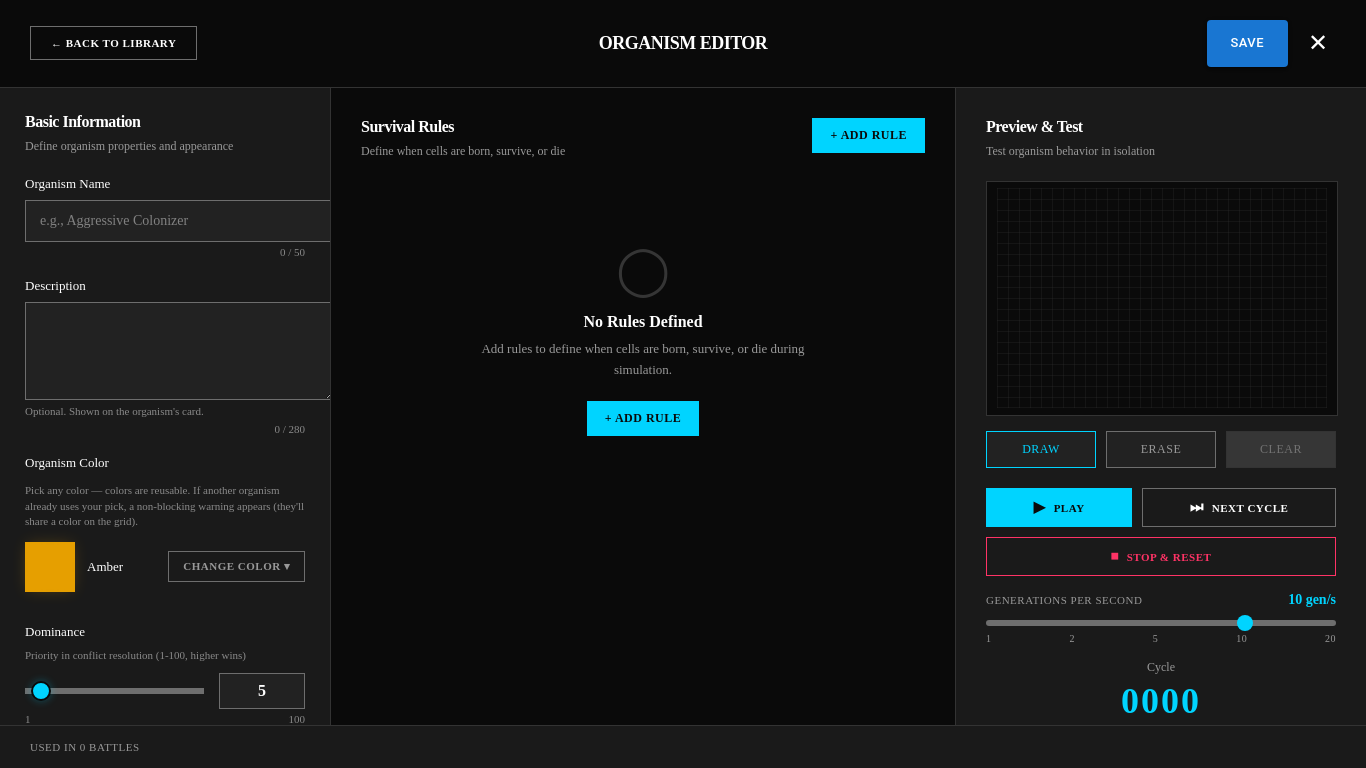
Test: OrganismEditorModal › mounts the name field, the colour picker, the dominance control and the aging toggle in Basic Information and nowhere else (Story 4.5, Story 4.6, Story 4.7, Sto
expect the field labelled "Organism Name" is shown: met, box [25,200,331,242]
expect the text box labelled "Description" is shown: met, box [25,302,331,400]
Click the button "Change Color ▾".
click(237, 566)  # box [168,551,305,582]
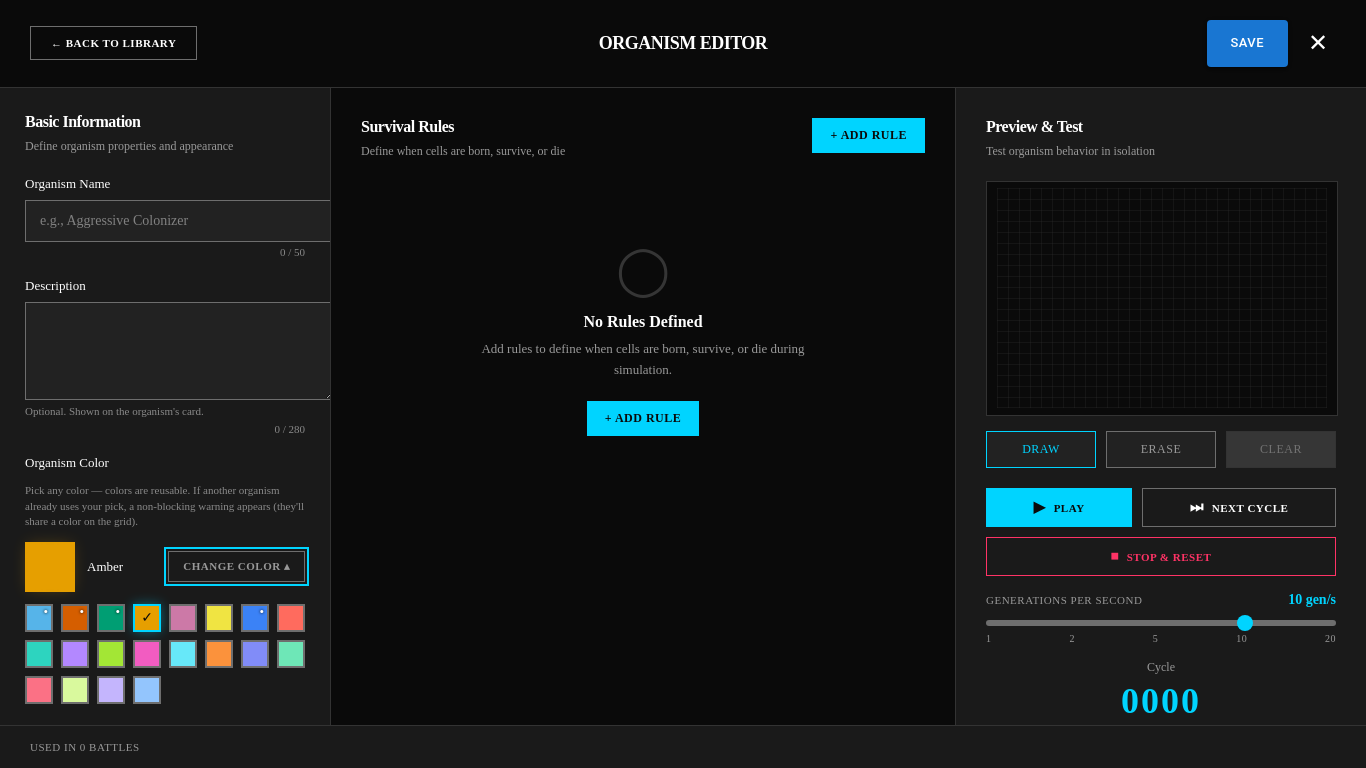
expect the element named "Organism Color" is shown: met, box [25,604,305,704]
